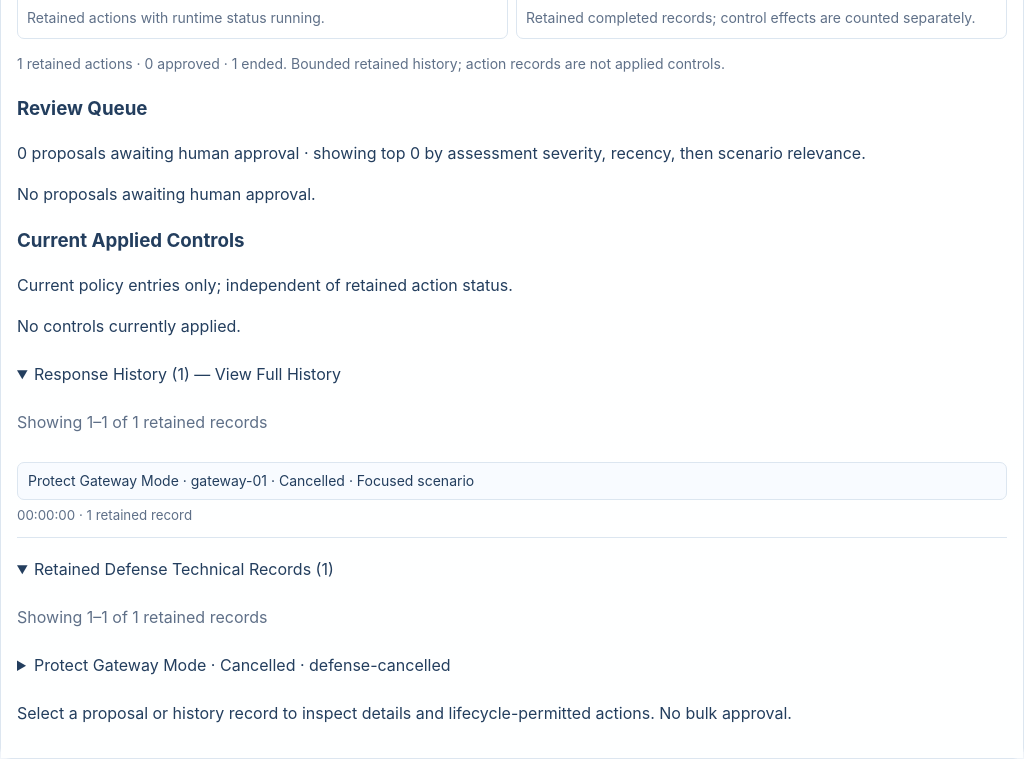
defense lifecycle controls › renders a cancelled action as read-only
(page scrolled)
Click the button.
click(103, 481)  # box [17,462,1007,500]
(page scrolled)
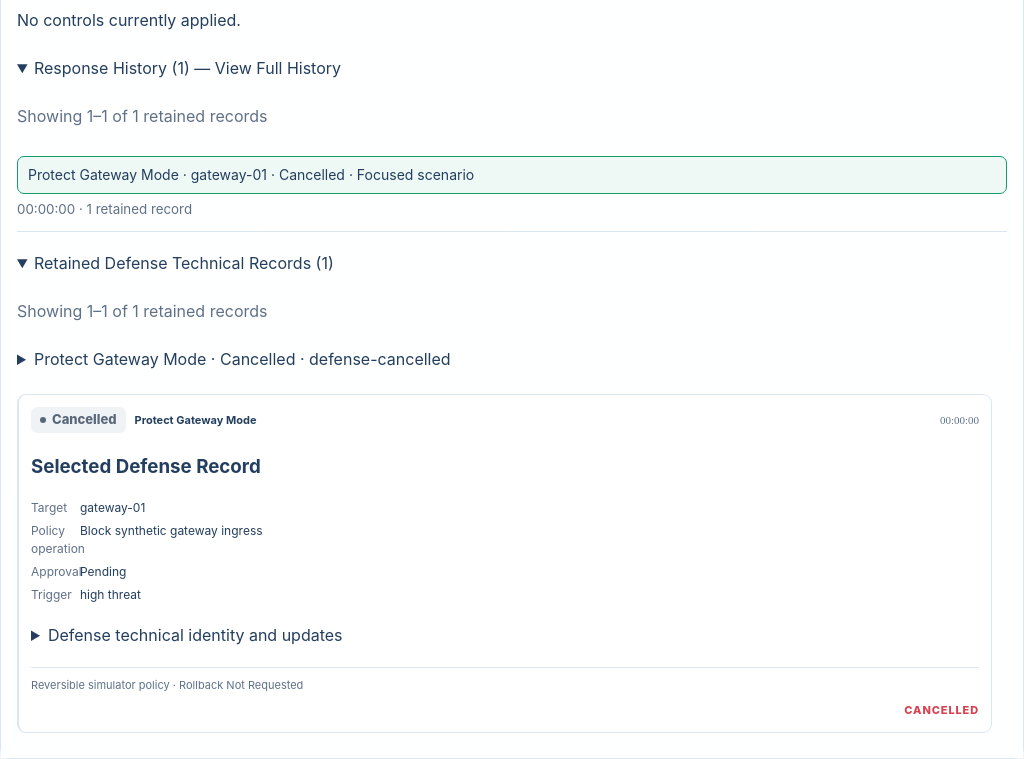
Result: the text "Cancelled" is shown at [904,702,979,720]
